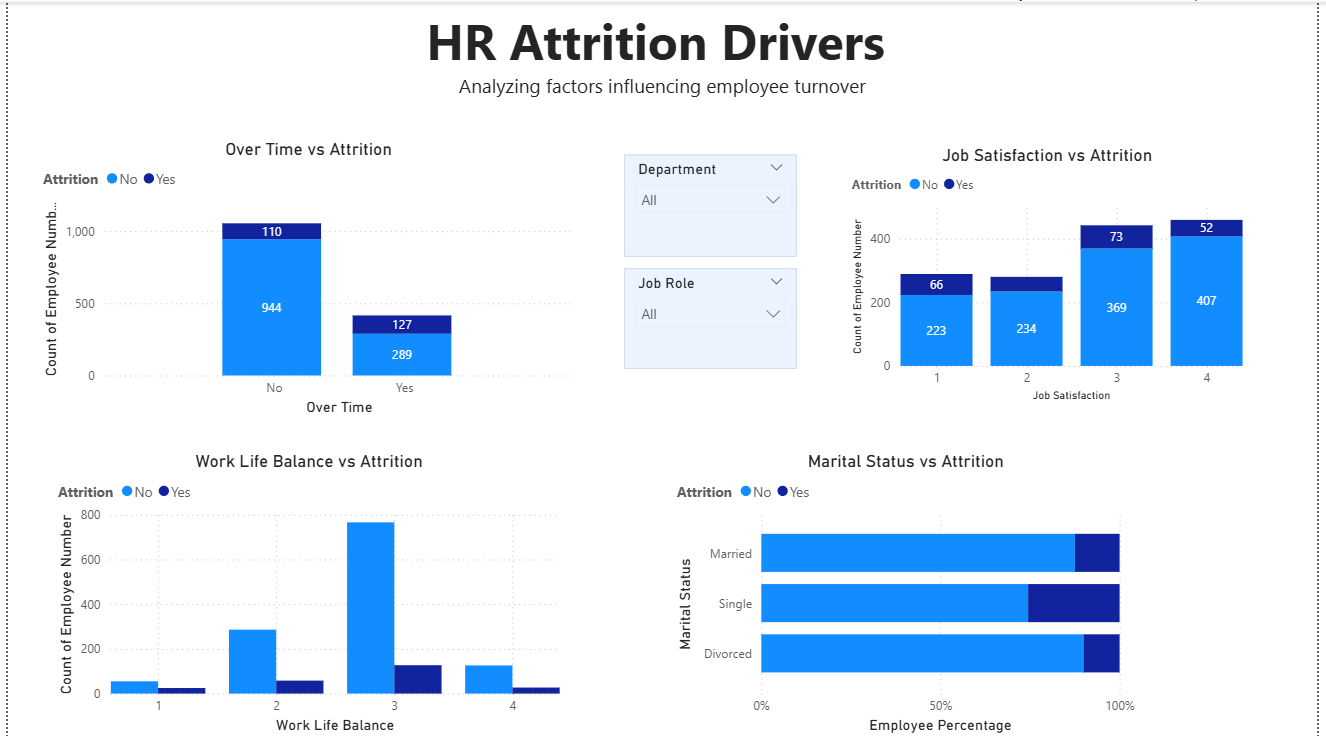

Layout of this report page (visuals, bound fields, positions):
{"tool":"powerbi","page":{"name":"Attrition Drivers Analysis","canvas":[1280,720],"ordinal":1},"visuals":[{"type":"columnChart","title":"Over Time vs Attrition","fields":{"Category":["HR Data.Over Time"],"Y":["CountNonNull(HR Data.Employee Number)"],"Series":["HR Data.Attrition"]},"box":[28.8,133.1,529.7,275.8],"z":0},{"type":"columnChart","title":"Job Satisfaction vs Attrition","fields":{"Series":["HR Data.Attrition"],"Y":["CountNonNull(HR Data.Employee Number)"],"Category":["HR Data.Job Satisfaction"]},"box":[820.6,140,392.5,256.6],"z":1000},{"type":"clusteredColumnChart","title":"Work Life Balance vs Attrition","fields":{"Category":["HR Data.Work Life Balance"],"Y":["CountNonNull(HR Data.Employee Number)"],"Series":["HR Data.Attrition"]},"box":[43.9,439.1,500.9,281.3],"z":2000},{"type":"hundredPercentStackedBarChart","title":"Marital Status vs Attrition","fields":{"Category":["HR Data.Marital Status"],"Y":["CountNonNull(HR Data.Employee Number)"],"Series":["HR Data.Attrition"]},"box":[649.1,439.1,458.3,281.3],"z":3000},{"type":"textbox","box":[0,0,1280.3,105.7],"z":4000},{"type":"slicer","fields":{"Values":["HR Data.Department"]},"box":[602.4,149.6,168.8,100.2],"z":4001},{"type":"slicer","fields":{"Values":["HR Data.Job Role"]},"box":[602.4,260.7,168.8,98.8],"z":4002}]}

Visuals, with their boxes in screenshot pixels (x1, y1, x2, y2), scaled from the page's 1280x720 canvas onto the 1326x736 screenshot:
"Over Time vs Attrition" columnChart: locate(30, 136, 579, 418)
"Job Satisfaction vs Attrition" columnChart: locate(850, 143, 1257, 405)
"Work Life Balance vs Attrition" clusteredColumnChart: locate(45, 449, 564, 735)
"Marital Status vs Attrition" hundredPercentStackedBarChart: locate(672, 449, 1147, 735)
textbox: locate(0, 0, 1325, 108)
slicer - HR Data.Department: locate(624, 153, 799, 255)
slicer - HR Data.Job Role: locate(624, 266, 799, 367)
